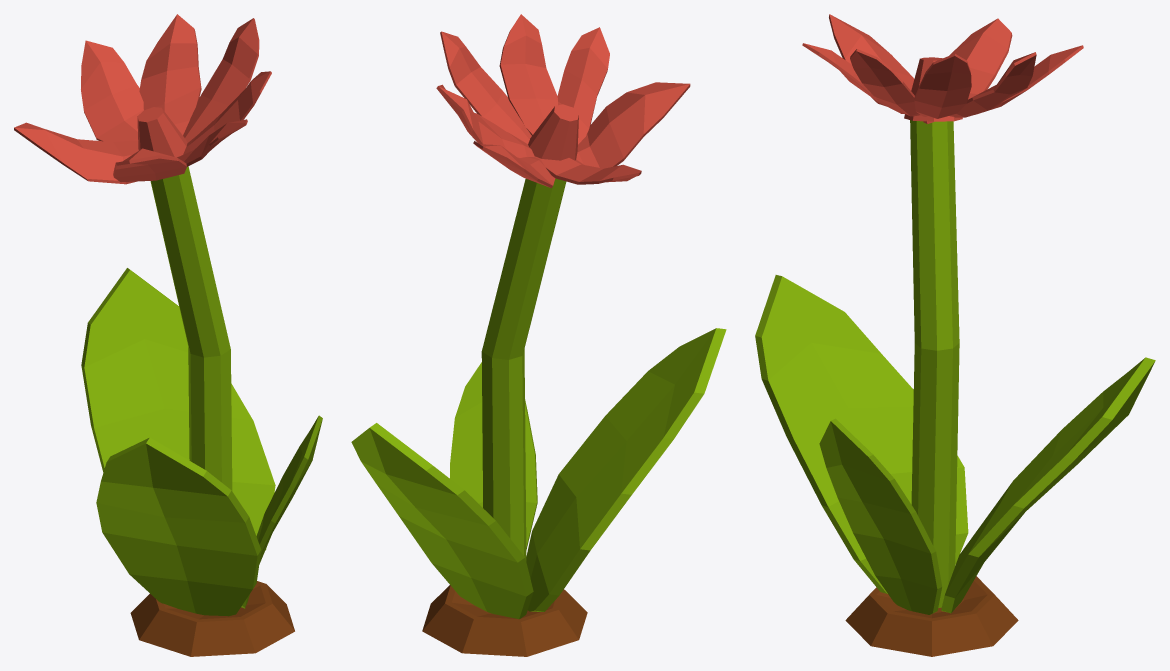
Rendered from FlowerStage4.fbx.
3 views of the same model, side by side, from view 1: azimuth 30°, elevation 25°; view 2: azimuth 150°, elevation 25°; view 3: azimuth 270°, elevation 25° (orthographic).
Parts seen in each view (by area): view 1: Stage3; view 2: Stage3; view 3: Stage3.
Part boxes in pixels (bbox=[...]): Stage3: bbox=[14, 14, 322, 656]; Stage3: bbox=[351, 14, 726, 656]; Stage3: bbox=[755, 14, 1155, 656].
Bounding box in the file's own units: 64.26 × 144 × 88.09.
